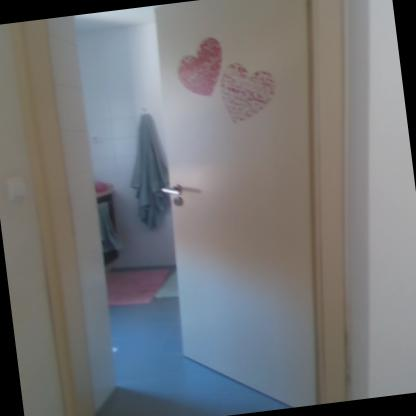semi: (11, 0, 388, 415)
